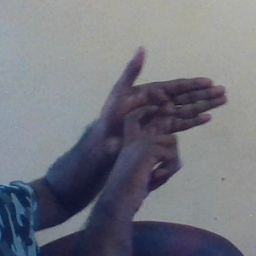R: (89, 44, 229, 195)
